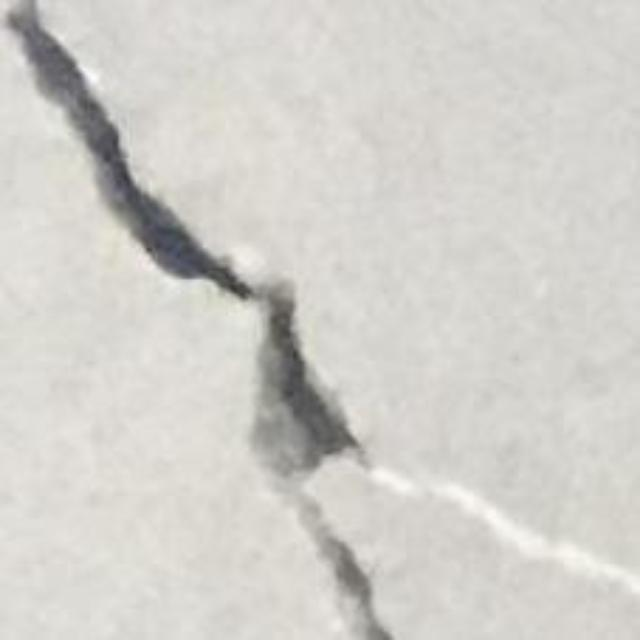crack: (6, 0, 639, 639)
